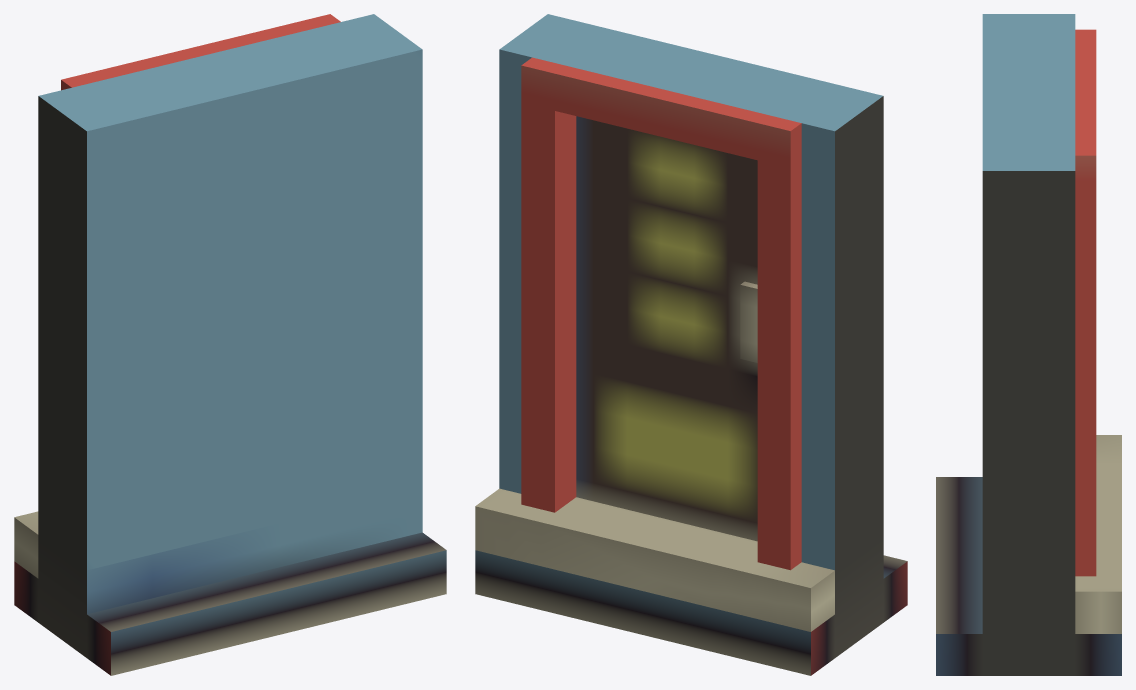
File: casa1_porta.fbx
3 views of the same model, side by side, from view 1: azimuth 30°, elevation 25°; view 2: azimuth 150°, elevation 25°; view 3: azimuth 270°, elevation 25° (orthographic). The views are drawn at different scales.
Parts seen in each view (by area): view 1: Wall1.033; view 2: Wall1.033; view 3: Wall1.033.
Boxes of the visible parts, x1=… form: Wall1.033: x1=14, y1=14, x2=446, y2=675; Wall1.033: x1=475, y1=14, x2=907, y2=675; Wall1.033: x1=936, y1=14, x2=1121, y2=675.
Size of the model in its own units: 200 by 300 by 100.
